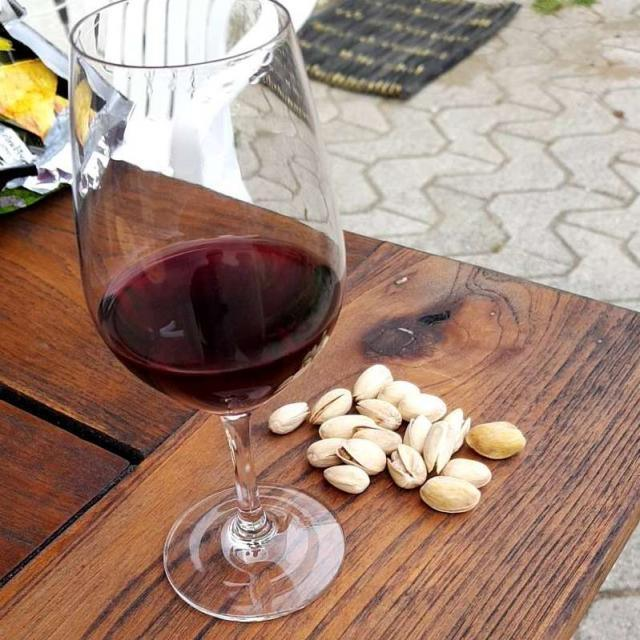pistachio: (281, 370, 519, 513)
wine: (99, 238, 328, 399)
